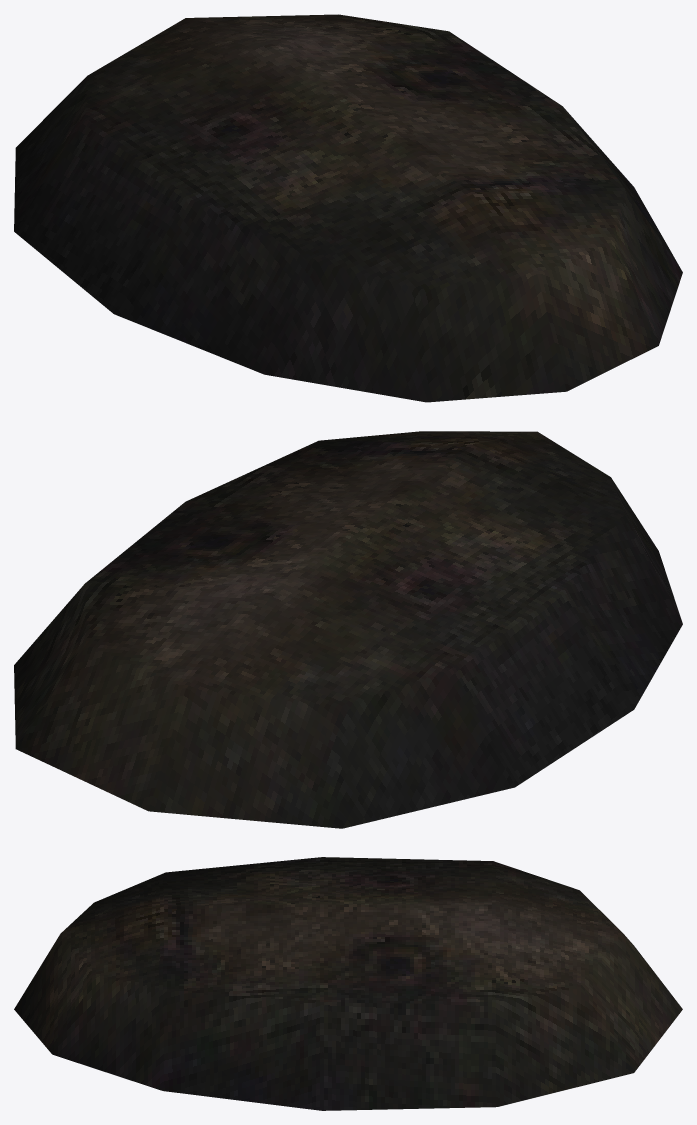
The model's file is mask_mx_3_1.glb.
The picture shows the model from 3 angles, top to bottom: view 1: azimuth 30°, elevation 25°; view 2: azimuth 150°, elevation 25°; view 3: azimuth 270°, elevation 25°; orthographic projection. The views are drawn at different scales.
Visible parts, largest first — view 1: mask_mx_3_1; view 2: mask_mx_3_1; view 3: mask_mx_3_1.
Boxes of the visible parts, x1,y1,x2,y2 form: mask_mx_3_1: (14,14,682,402); mask_mx_3_1: (14,431,682,828); mask_mx_3_1: (14,857,682,1110).
Bounding box in the file's own units: 0.2297 × 0.0554 × 0.3198.
Materials: 1 (1 with a texture image).
